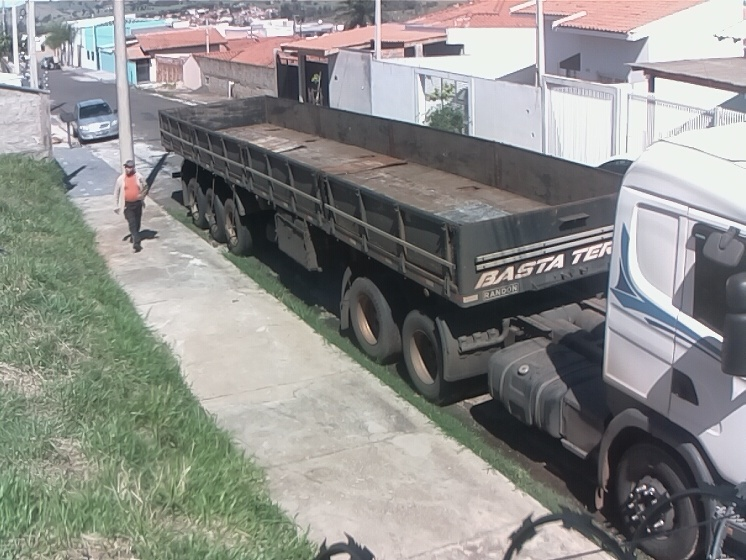person: (112, 159, 158, 253)
